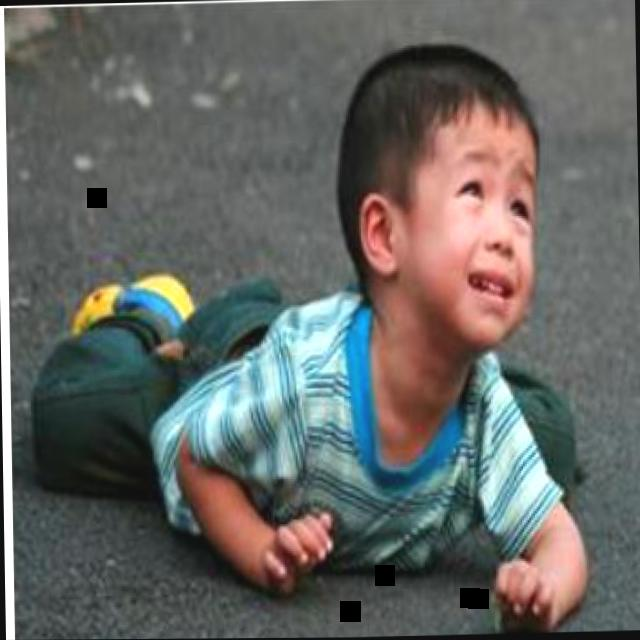Fall-Detected: (29, 18, 632, 640)
